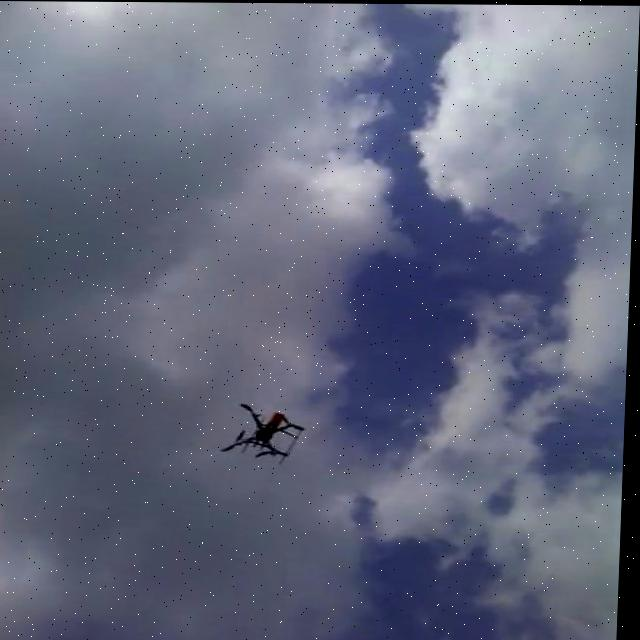drone: (217, 400, 312, 463)
